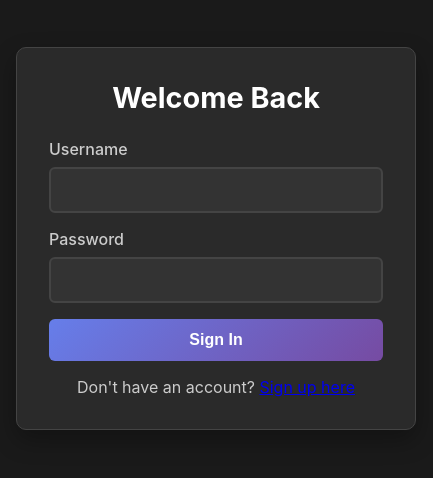
Login Component › handles network errors gracefully
The width and height of the screenshot is (433, 478).
Type "testuser" into the field labelled "Username".
click(216, 190); type("testuser")  # box [49,166,383,212]
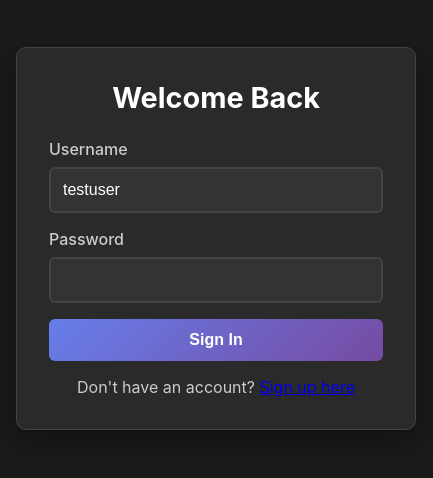
Type "testpass" into the password field labelled "Password".
click(216, 280); type("testpass")  # box [49,256,383,302]
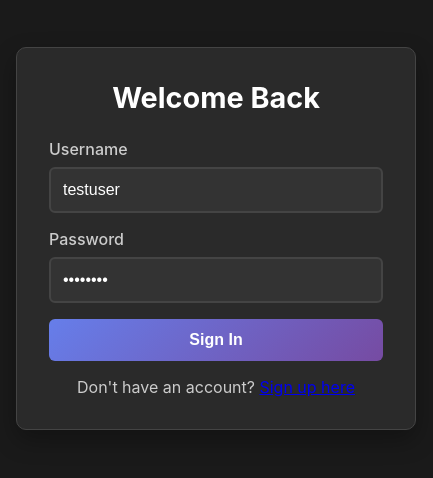
Click the button "Sign In".
click(216, 340)  # box [49,318,383,360]
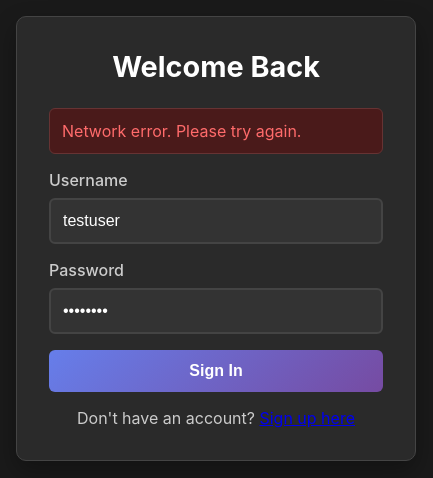
Expected: the text "Network error. Please try again." is shown, [49,108,383,154]
